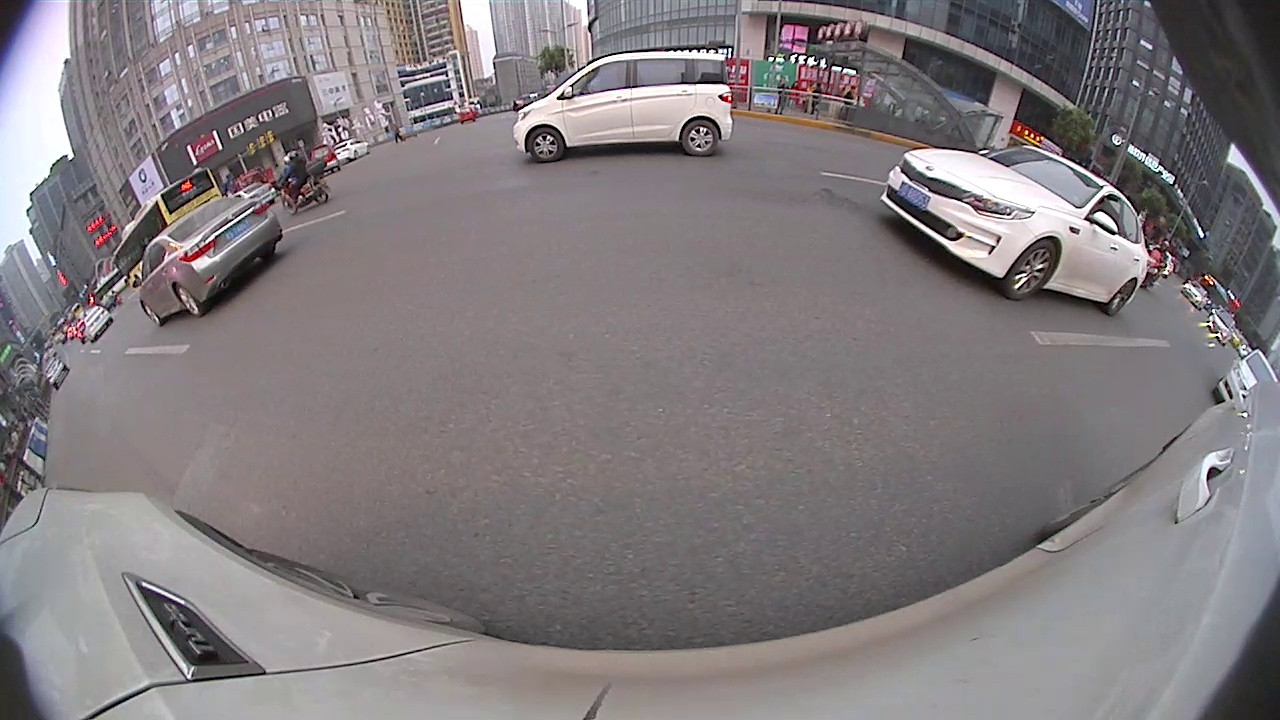bus: (109, 164, 230, 284)
car: (878, 149, 1156, 317), (511, 48, 732, 169), (137, 197, 283, 328), (1213, 351, 1279, 413), (79, 304, 109, 342)
front: (1001, 237, 1059, 302), (524, 125, 564, 164), (140, 301, 166, 329)
rear: (681, 119, 720, 158), (1104, 277, 1138, 319), (173, 281, 204, 319)
rider: (271, 148, 332, 212)
